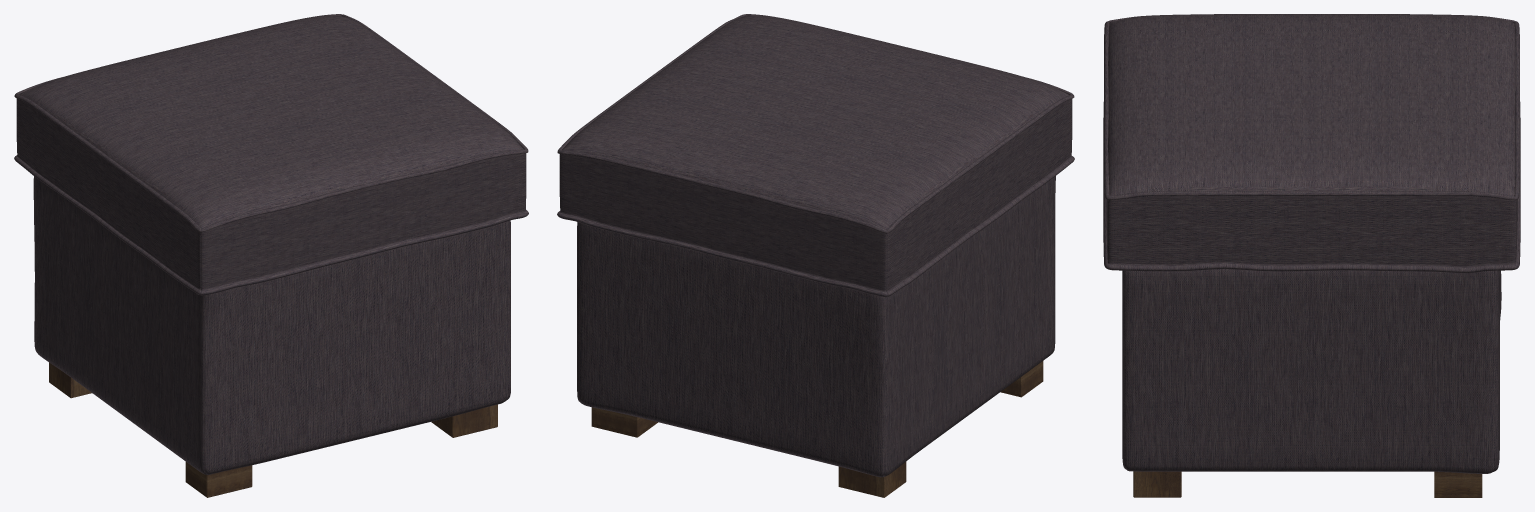
Rendered from Tapicerk_i_krzesla_puf_amsterdam.obj.
The picture shows the model from 3 angles, left to right: view 1: azimuth 30°, elevation 25°; view 2: azimuth 150°, elevation 25°; view 3: azimuth 270°, elevation 25°; orthographic projection. The views are drawn at different scales.
Parts seen in each view (by area): view 1: Object001, Box019, Box012, Box022, Box017; view 2: Object001, Box019, Box017, Box021, Box012; view 3: Object001, Box019, Box022, Box021.
Boxes of the visible parts, x1,y1,x2,y2 form: Object001: [14, 14, 528, 295]; Box019: [33, 176, 510, 474]; Box012: [185, 462, 252, 497]; Box022: [431, 404, 497, 437]; Box017: [49, 362, 91, 398]; Object001: [557, 14, 1074, 296]; Box019: [577, 176, 1055, 477]; Box017: [838, 462, 906, 497]; Box021: [591, 407, 657, 437]; Box012: [1000, 361, 1043, 397]; Object001: [1103, 14, 1520, 273]; Box019: [1122, 269, 1501, 473]; Box022: [1133, 471, 1181, 497]; Box021: [1434, 471, 1482, 497].
Size of the model in its own units: 59.46 by 51.38 by 58.49.
